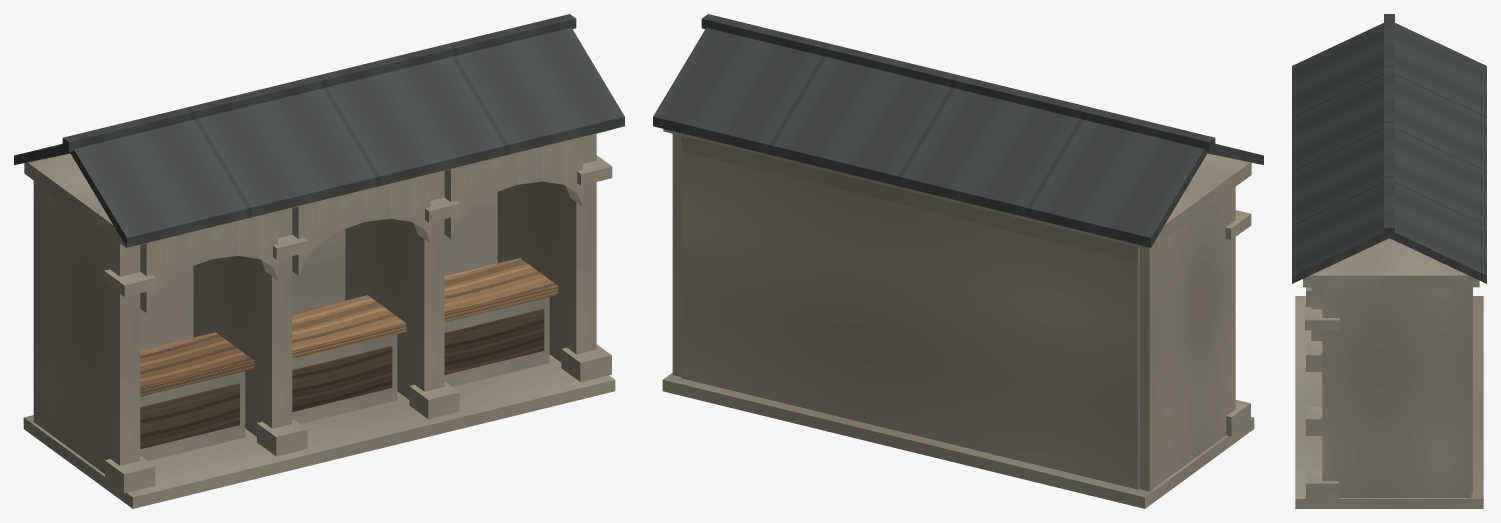
3 views of the same model, side by side, from view 1: azimuth 30°, elevation 25°; view 2: azimuth 150°, elevation 25°; view 3: azimuth 270°, elevation 25° (orthographic). The views are drawn at different scales.
Parts seen in each view (by area): view 1: asmara; view 2: asmara; view 3: asmara.
Boxes of the visible parts, x1,y1,x2,y2 form: asmara: [14, 14, 624, 508]; asmara: [653, 14, 1263, 508]; asmara: [1292, 14, 1486, 508].
Bounding box in the file's own units: 4 × 2.5 × 1.54.
Materials: 1 (1 with a texture image).
